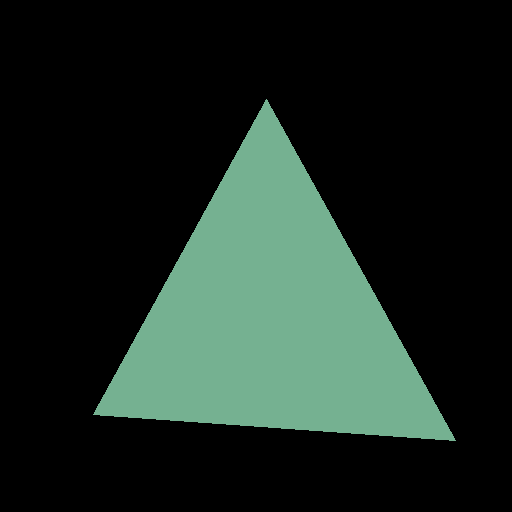triangle: (93, 99, 455, 440)
